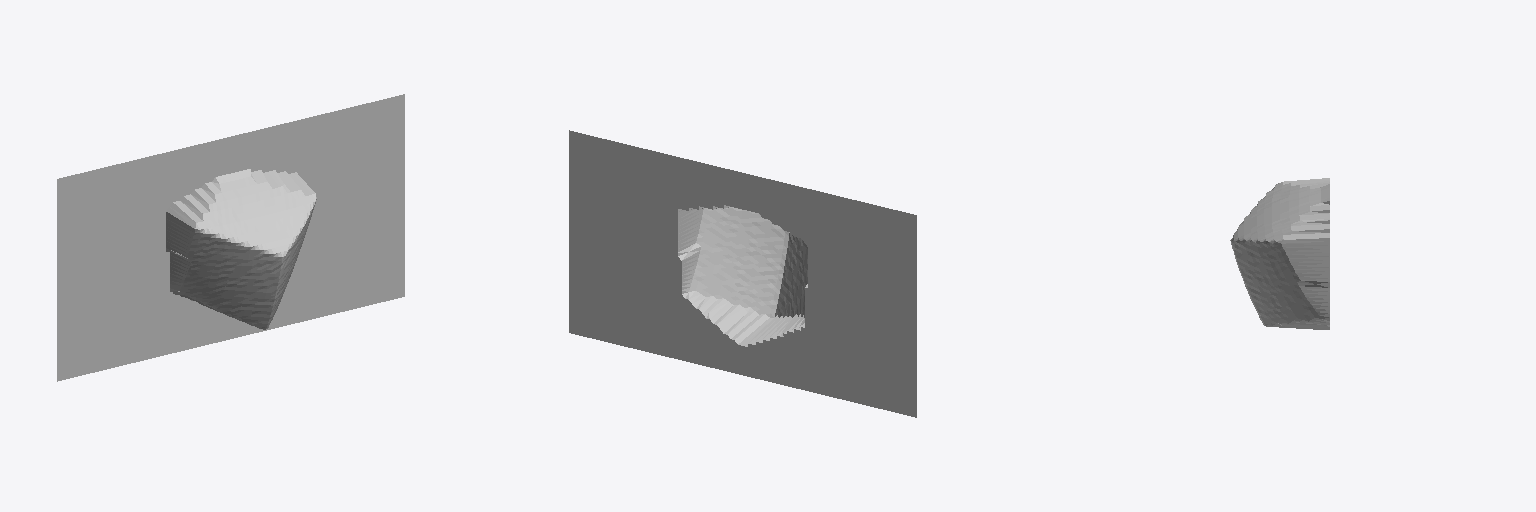
Rendered from DepthImage.obj.
3 views of the same model, side by side, from view 1: azimuth 30°, elevation 25°; view 2: azimuth 150°, elevation 25°; view 3: azimuth 270°, elevation 25° (orthographic).
Bounding box in the file's own units: 99 × 55 × 24.41.